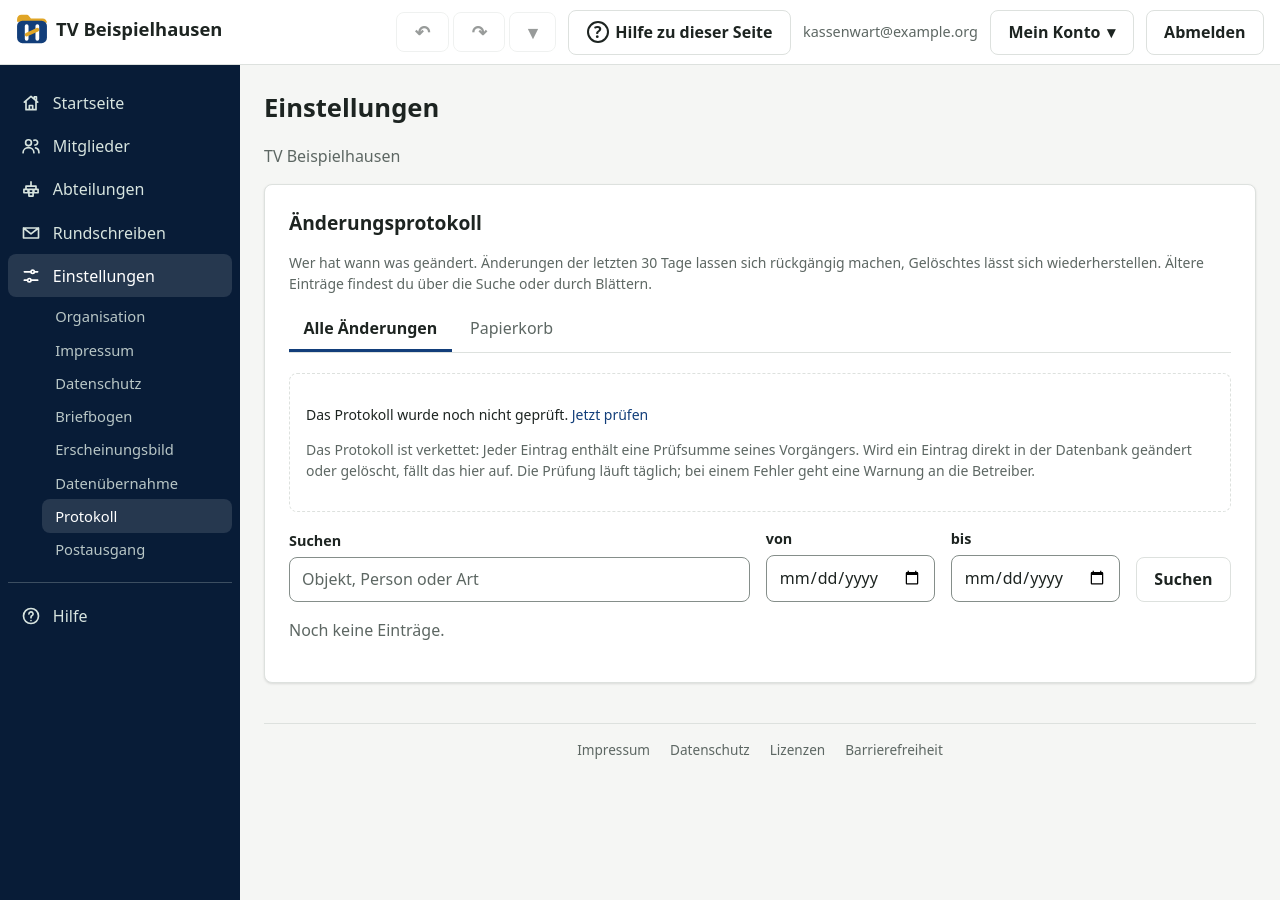
Test: Änderungsprotokoll: Kettenprüfung › prüft auf Knopfdruck und zeigt gefundene Veränderungen
Check: the text "Das Protokoll wurde noch nicht geprüft. Jetzt prüfen" is shown, box [306,404,648,425]
Click the button "Jetzt prüfen".
click(610, 415)  # box [572,404,648,425]
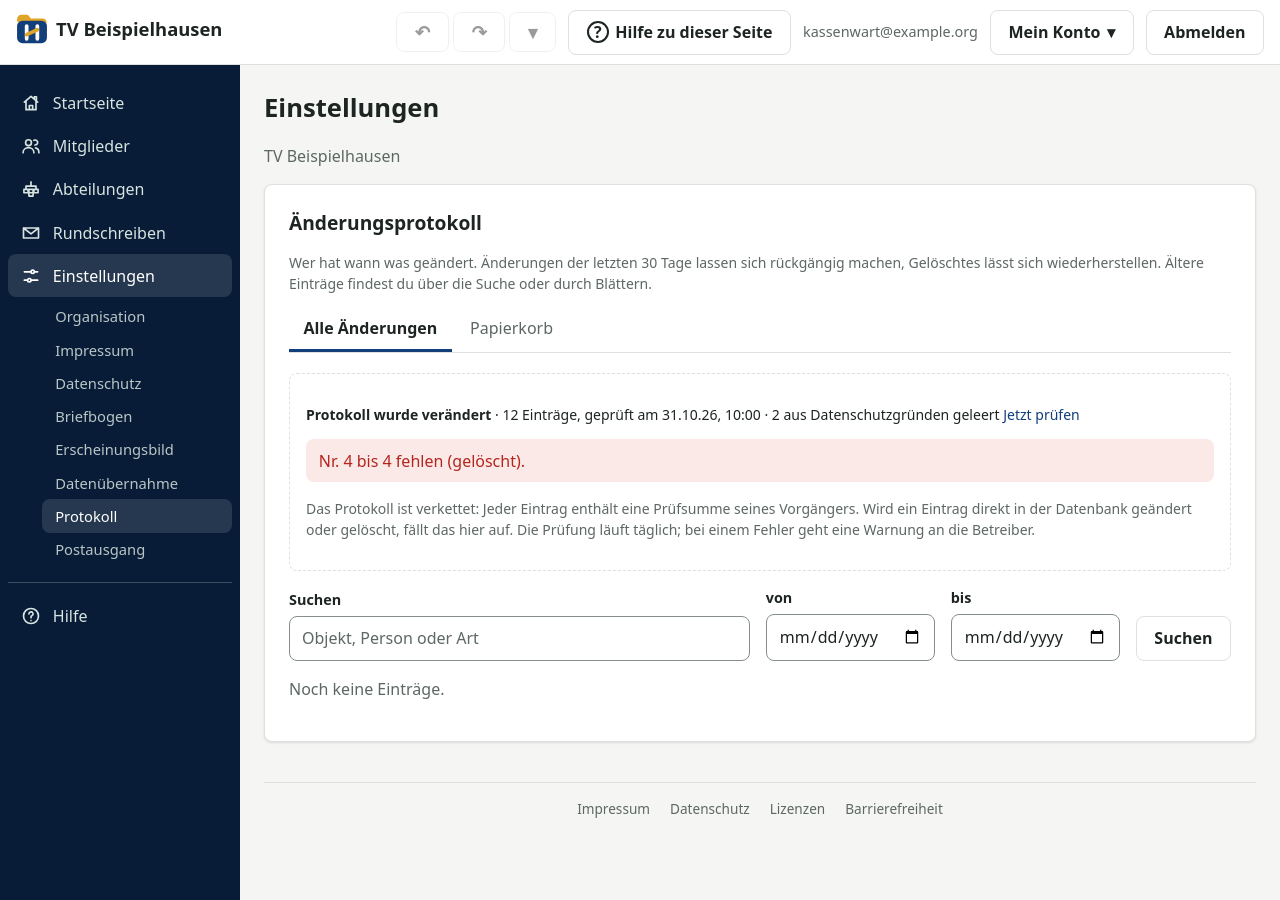
Check: the text "Protokoll wurde verändert" is shown, box [306,405,491,424]
Check: the text "Nr. 4 bis 4 fehlen (gelöscht)." is shown, box [319,450,525,472]
Check: the text "2 aus Datenschutzgründen geleert" is shown, box [761,405,1000,424]
